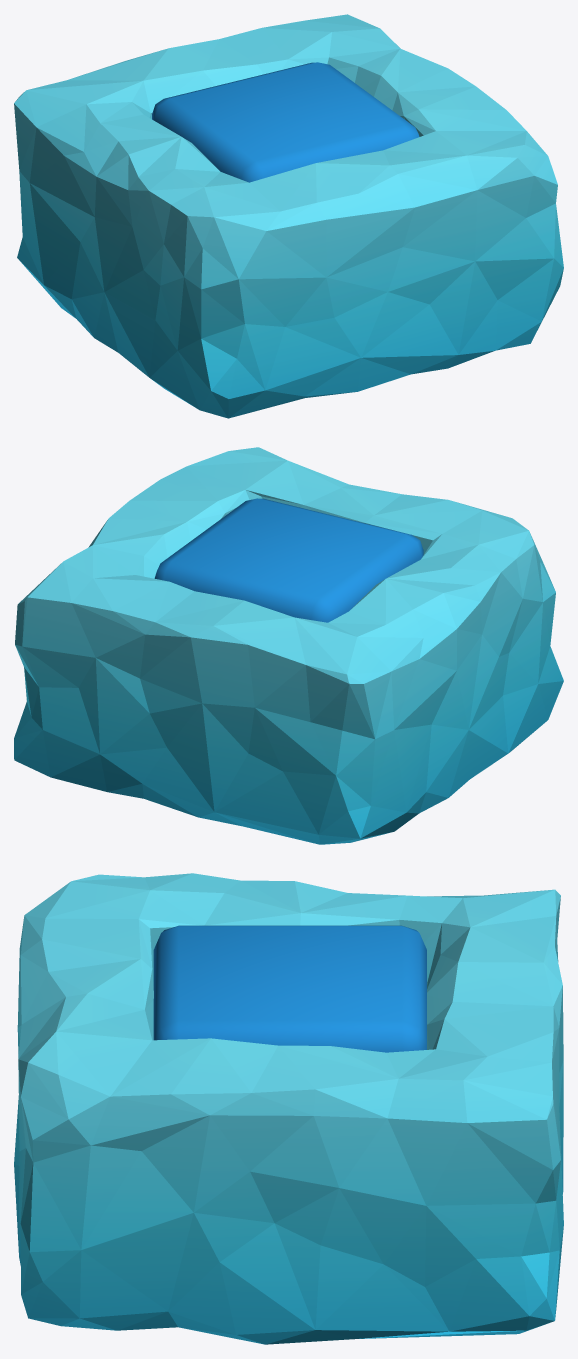
File: obstacle_19_001.fbx
3 views of the same model, one above another, from view 1: azimuth 30°, elevation 25°; view 2: azimuth 150°, elevation 25°; view 3: azimuth 270°, elevation 25° (orthographic). The views are drawn at different scales.
Parts seen in each view (by area): view 1: obstacle_19_001; view 2: obstacle_19_001; view 3: obstacle_19_001.
Boxes of the visible parts, x1=… form: obstacle_19_001: x1=14, y1=14, x2=563, y2=418; obstacle_19_001: x1=14, y1=447, x2=563, y2=844; obstacle_19_001: x1=14, y1=873, x2=563, y2=1344.
Bounding box in the file's own units: 351 × 351 × 186.
